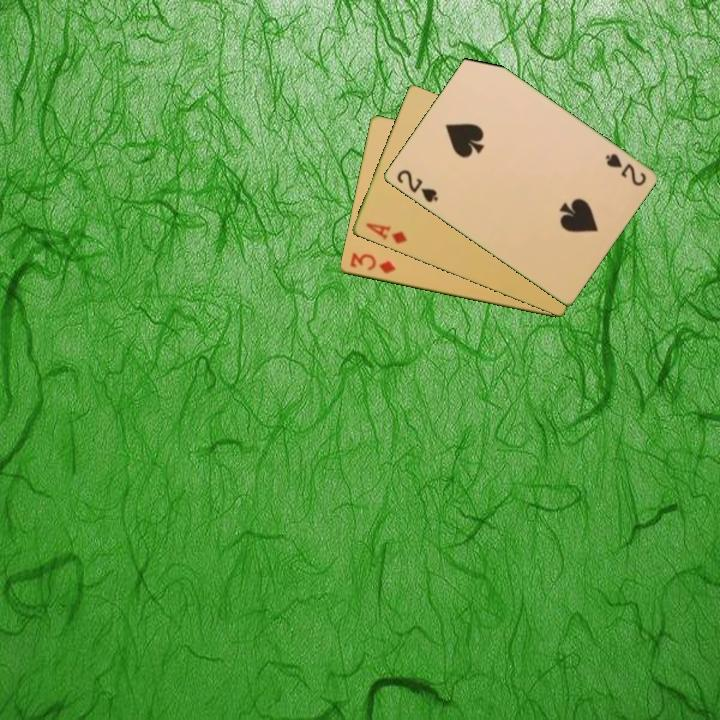2s: (393, 166, 441, 206), (601, 150, 649, 189)
3d: (346, 249, 398, 277)
Ad: (362, 219, 410, 247)
